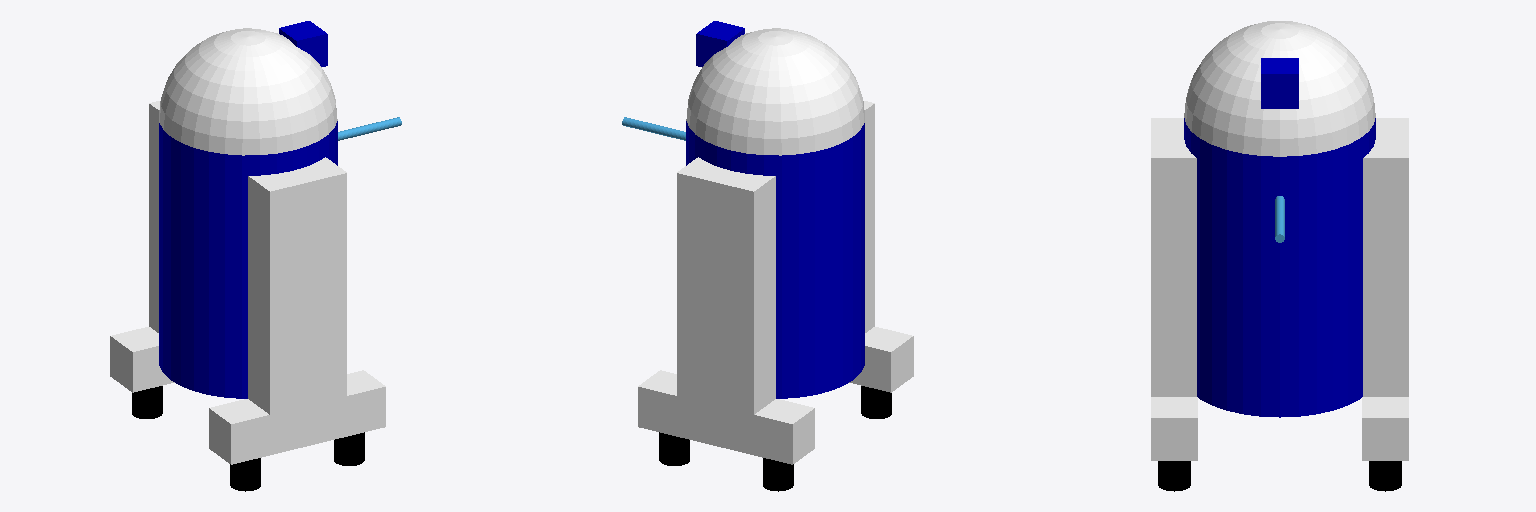
robot.urdf — macroed:
<?xml version="1.0" ?>
<!-- =================================================================================== -->
<!-- |    This document was autogenerated by xacro from macroed.urdf.xacro             | -->
<!-- |    EDITING THIS FILE BY HAND IS NOT RECOMMENDED                                 | -->
<!-- =================================================================================== -->
<robot name="macroed" xmlns:xacro="http://ros.org/wiki/xacro">
  <material name="blue">
    <color rgba="0 0 .8 1"/>
  </material>
  <material name="black">
    <color rgba="0 0 0 1"/>
  </material>
  <material name="white">
    <color rgba="1 1 1 1"/>
  </material>
  <link name="base_link">
    <visual>
      <geometry>
        <cylinder length="0.6" radius="0.2"/>
      </geometry>
      <material name="blue"/>
    </visual>
    <collision>
      <geometry>
        <cylinder length="0.6" radius="0.2"/>
      </geometry>
    </collision>
    <inertial>
      <mass value="10"/>
      <inertia ixx="1.0" ixy="0.0" ixz="0.0" iyy="1.0" iyz="0.0" izz="1.0"/>
    </inertial>
  </link>
  <link name="right_leg">
    <visual>
      <geometry>
        <box size="0.6 .1 .2"/>
      </geometry>
      <origin rpy="0 1.57075 0" xyz="0 0 -0.3"/>
      <material name="white"/>
    </visual>
    <collision>
      <geometry>
        <box size="0.6 .1 .2"/>
      </geometry>
      <origin rpy="0 1.57075 0" xyz="0 0 -0.3"/>
    </collision>
    <inertial>
      <mass value="10"/>
      <inertia ixx="1.0" ixy="0.0" ixz="0.0" iyy="1.0" iyz="0.0" izz="1.0"/>
    </inertial>
  </link>
  <joint name="base_to_right_leg" type="fixed">
    <parent link="base_link"/>
    <child link="right_leg"/>
    <origin xyz="0 -0.22 .25"/>
  </joint>
  <link name="right_base">
    <visual>
      <geometry>
        <box size="0.4 .1 .1"/>
      </geometry>
      <material name="white"/>
    </visual>
    <collision>
      <geometry>
        <box size="0.4 .1 .1"/>
      </geometry>
    </collision>
    <inertial>
      <mass value="10"/>
      <inertia ixx="1.0" ixy="0.0" ixz="0.0" iyy="1.0" iyz="0.0" izz="1.0"/>
    </inertial>
  </link>
  <joint name="right_base_joint" type="fixed">
    <parent link="right_leg"/>
    <child link="right_base"/>
    <origin xyz="0 0 -0.6"/>
  </joint>
  <link name="right_front_wheel">
    <visual>
      <origin rpy="1.57075 0 0" xyz="0 0 0"/>
      <geometry>
        <cylinder length="0.1" radius="0.035"/>
      </geometry>
      <material name="black"/>
      <origin rpy="0 0 0" xyz="0 0 0"/>
    </visual>
    <collision>
      <origin rpy="1.57075 0 0" xyz="0 0 0"/>
      <geometry>
        <cylinder length="0.1" radius="0.035"/>
      </geometry>
      <origin rpy="0 0 0" xyz="0 0 0"/>
    </collision>
    <inertial>
      <mass value="1"/>
      <inertia ixx="1.0" ixy="0.0" ixz="0.0" iyy="1.0" iyz="0.0" izz="1.0"/>
    </inertial>
  </link>
  <joint name="right_front_wheel_joint" type="continuous">
    <axis rpy="0 0 0" xyz="0 1 0"/>
    <parent link="right_base"/>
    <child link="right_front_wheel"/>
    <origin rpy="0 0 0" xyz="0.133333333333 0 -0.085"/>
  </joint>
  <link name="right_back_wheel">
    <visual>
      <origin rpy="1.57075 0 0" xyz="0 0 0"/>
      <geometry>
        <cylinder length="0.1" radius="0.035"/>
      </geometry>
      <material name="black"/>
      <origin rpy="0 0 0" xyz="0 0 0"/>
    </visual>
    <collision>
      <origin rpy="1.57075 0 0" xyz="0 0 0"/>
      <geometry>
        <cylinder length="0.1" radius="0.035"/>
      </geometry>
      <origin rpy="0 0 0" xyz="0 0 0"/>
    </collision>
    <inertial>
      <mass value="1"/>
      <inertia ixx="1.0" ixy="0.0" ixz="0.0" iyy="1.0" iyz="0.0" izz="1.0"/>
    </inertial>
  </link>
  <joint name="right_back_wheel_joint" type="continuous">
    <axis rpy="0 0 0" xyz="0 1 0"/>
    <parent link="right_base"/>
    <child link="right_back_wheel"/>
    <origin rpy="0 0 0" xyz="-0.133333333333 0 -0.085"/>
  </joint>
  <link name="left_leg">
    <visual>
      <geometry>
        <box size="0.6 .1 .2"/>
      </geometry>
      <origin rpy="0 1.57075 0" xyz="0 0 -0.3"/>
      <material name="white"/>
    </visual>
    <collision>
      <geometry>
        <box size="0.6 .1 .2"/>
      </geometry>
      <origin rpy="0 1.57075 0" xyz="0 0 -0.3"/>
    </collision>
    <inertial>
      <mass value="10"/>
      <inertia ixx="1.0" ixy="0.0" ixz="0.0" iyy="1.0" iyz="0.0" izz="1.0"/>
    </inertial>
  </link>
  <joint name="base_to_left_leg" type="fixed">
    <parent link="base_link"/>
    <child link="left_leg"/>
    <origin xyz="0 0.22 .25"/>
  </joint>
  <link name="left_base">
    <visual>
      <geometry>
        <box size="0.4 .1 .1"/>
      </geometry>
      <material name="white"/>
    </visual>
    <collision>
      <geometry>
        <box size="0.4 .1 .1"/>
      </geometry>
    </collision>
    <inertial>
      <mass value="10"/>
      <inertia ixx="1.0" ixy="0.0" ixz="0.0" iyy="1.0" iyz="0.0" izz="1.0"/>
    </inertial>
  </link>
  <joint name="left_base_joint" type="fixed">
    <parent link="left_leg"/>
    <child link="left_base"/>
    <origin xyz="0 0 -0.6"/>
  </joint>
  <link name="left_front_wheel">
    <visual>
      <origin rpy="1.57075 0 0" xyz="0 0 0"/>
      <geometry>
        <cylinder length="0.1" radius="0.035"/>
      </geometry>
      <material name="black"/>
      <origin rpy="0 0 0" xyz="0 0 0"/>
    </visual>
    <collision>
      <origin rpy="1.57075 0 0" xyz="0 0 0"/>
      <geometry>
        <cylinder length="0.1" radius="0.035"/>
      </geometry>
      <origin rpy="0 0 0" xyz="0 0 0"/>
    </collision>
    <inertial>
      <mass value="1"/>
      <inertia ixx="1.0" ixy="0.0" ixz="0.0" iyy="1.0" iyz="0.0" izz="1.0"/>
    </inertial>
  </link>
  <joint name="left_front_wheel_joint" type="continuous">
    <axis rpy="0 0 0" xyz="0 1 0"/>
    <parent link="left_base"/>
    <child link="left_front_wheel"/>
    <origin rpy="0 0 0" xyz="0.133333333333 0 -0.085"/>
  </joint>
  <link name="left_back_wheel">
    <visual>
      <origin rpy="1.57075 0 0" xyz="0 0 0"/>
      <geometry>
        <cylinder length="0.1" radius="0.035"/>
      </geometry>
      <material name="black"/>
      <origin rpy="0 0 0" xyz="0 0 0"/>
    </visual>
    <collision>
      <origin rpy="1.57075 0 0" xyz="0 0 0"/>
      <geometry>
        <cylinder length="0.1" radius="0.035"/>
      </geometry>
      <origin rpy="0 0 0" xyz="0 0 0"/>
    </collision>
    <inertial>
      <mass value="1"/>
      <inertia ixx="1.0" ixy="0.0" ixz="0.0" iyy="1.0" iyz="0.0" izz="1.0"/>
    </inertial>
  </link>
  <joint name="left_back_wheel_joint" type="continuous">
    <axis rpy="0 0 0" xyz="0 1 0"/>
    <parent link="left_base"/>
    <child link="left_back_wheel"/>
    <origin rpy="0 0 0" xyz="-0.133333333333 0 -0.085"/>
  </joint>
  <joint name="gripper_extension" type="prismatic">
    <parent link="base_link"/>
    <child link="gripper_pole"/>
    <limit effort="1000.0" lower="-0.38" upper="0" velocity="0.5"/>
    <origin rpy="0 0 0" xyz="0.19 0 .2"/>
  </joint>
  <link name="gripper_pole">
    <visual>
      <geometry>
        <cylinder length="0.2" radius=".01"/>
      </geometry>
      <origin rpy="0 1.57075 0 " xyz="0.1 0 0"/>
    </visual>
    <collision>
      <geometry>
        <cylinder length="0.2" radius=".01"/>
      </geometry>
      <origin rpy="0 1.57075 0 " xyz="0.1 0 0"/>
    </collision>
    <inertial>
      <mass value="0.05"/>
      <inertia ixx="1.0" ixy="0.0" ixz="0.0" iyy="1.0" iyz="0.0" izz="1.0"/>
    </inertial>
  </link>
  <joint name="left_gripper_joint" type="revolute">
    <axis xyz="0 0 1"/>
    <limit effort="1000.0" lower="0.0" upper="0.548" velocity="0.5"/>
    <origin rpy="0 0 0" xyz="0.2 0.01 0"/>
    <parent link="gripper_pole"/>
    <child link="left_gripper"/>
  </joint>
  <link name="left_gripper">
    <visual>
      <origin rpy="0.0 0 0" xyz="0 0 0"/>
      <geometry>
        <mesh filename="package://pr2_description/meshes/gripper_v0/l_finger.dae"/>
      </geometry>
    </visual>
    <collision>
      <geometry>
        <mesh filename="package://pr2_description/meshes/gripper_v0/l_finger.dae"/>
      </geometry>
      <origin rpy="0.0 0 0" xyz="0 0 0"/>
    </collision>
    <inertial>
      <mass value="0.05"/>
      <inertia ixx="1.0" ixy="0.0" ixz="0.0" iyy="1.0" iyz="0.0" izz="1.0"/>
    </inertial>
  </link>
  <joint name="left_tip_joint" type="fixed">
    <parent link="left_gripper"/>
    <child link="left_tip"/>
  </joint>
  <link name="left_tip">
    <visual>
      <origin rpy="0.0 0 0" xyz="0.09137 0.00495 0"/>
      <geometry>
        <mesh filename="package://pr2_description/meshes/gripper_v0/l_finger_tip.dae"/>
      </geometry>
    </visual>
    <collision>
      <geometry>
        <mesh filename="package://pr2_description/meshes/gripper_v0/l_finger_tip.dae"/>
      </geometry>
      <origin rpy="0.0 0 0" xyz="0.09137 0.00495 0"/>
    </collision>
    <inertial>
      <mass value="0.05"/>
      <inertia ixx="1.0" ixy="0.0" ixz="0.0" iyy="1.0" iyz="0.0" izz="1.0"/>
    </inertial>
  </link>
  <joint name="right_gripper_joint" type="revolute">
    <axis xyz="0 0 -1"/>
    <limit effort="1000.0" lower="0.0" upper="0.548" velocity="0.5"/>
    <origin rpy="0 0 0" xyz="0.2 -0.01 0"/>
    <parent link="gripper_pole"/>
    <child link="right_gripper"/>
  </joint>
  <link name="right_gripper">
    <visual>
      <origin rpy="-3.1415 0 0" xyz="0 0 0"/>
      <geometry>
        <mesh filename="package://pr2_description/meshes/gripper_v0/l_finger.dae"/>
      </geometry>
    </visual>
    <collision>
      <geometry>
        <mesh filename="package://pr2_description/meshes/gripper_v0/l_finger.dae"/>
      </geometry>
      <origin rpy="-3.1415 0 0" xyz="0 0 0"/>
    </collision>
    <inertial>
      <mass value="0.05"/>
      <inertia ixx="1.0" ixy="0.0" ixz="0.0" iyy="1.0" iyz="0.0" izz="1.0"/>
    </inertial>
  </link>
  <joint name="right_tip_joint" type="fixed">
    <parent link="right_gripper"/>
    <child link="right_tip"/>
  </joint>
  <link name="right_tip">
    <visual>
      <origin rpy="-3.1415 0 0" xyz="0.09137 0.00495 0"/>
      <geometry>
        <mesh filename="package://pr2_description/meshes/gripper_v0/l_finger_tip.dae"/>
      </geometry>
    </visual>
    <collision>
      <geometry>
        <mesh filename="package://pr2_description/meshes/gripper_v0/l_finger_tip.dae"/>
      </geometry>
      <origin rpy="-3.1415 0 0" xyz="0.09137 0.00495 0"/>
    </collision>
    <inertial>
      <mass value="0.05"/>
      <inertia ixx="1.0" ixy="0.0" ixz="0.0" iyy="1.0" iyz="0.0" izz="1.0"/>
    </inertial>
  </link>
  <link name="head">
    <visual>
      <geometry>
        <sphere radius="0.2"/>
      </geometry>
      <material name="white"/>
    </visual>
    <collision>
      <geometry>
        <sphere radius="0.2"/>
      </geometry>
    </collision>
    <inertial>
      <mass value="2"/>
      <inertia ixx="1.0" ixy="0.0" ixz="0.0" iyy="1.0" iyz="0.0" izz="1.0"/>
    </inertial>
  </link>
  <joint name="head_swivel" type="continuous">
    <parent link="base_link"/>
    <child link="head"/>
    <axis xyz="0 0 1"/>
    <origin xyz="0 0 0.3"/>
  </joint>
  <link name="box">
    <visual>
      <geometry>
        <box size=".08 .08 .08"/>
      </geometry>
      <material name="blue"/>
      <origin xyz="-0.04 0 0"/>
    </visual>
    <collision>
      <geometry>
        <box size=".08 .08 .08"/>
      </geometry>
    </collision>
    <inertial>
      <mass value="1"/>
      <inertia ixx="1.0" ixy="0.0" ixz="0.0" iyy="1.0" iyz="0.0" izz="1.0"/>
    </inertial>
  </link>
  <joint name="tobox" type="fixed">
    <parent link="head"/>
    <child link="box"/>
    <origin xyz="0.1814 0 0.1414"/>
  </joint>
</robot>

--- Render facts (derived) ---
3 views of the same robot in one strip: view 1: azimuth 30°, elevation 25°; view 2: azimuth 150°, elevation 25°; view 3: azimuth 270°, elevation 25° (orthographic).
Robot: macroed — 16 links, 15 joints (2 revolute, 5 continuous, 1 prismatic, 7 fixed); root link base_link; default pose: every joint at zero.
Links seen in each view (by area): view 1: right_leg, base_link, head, right_base, left_base, left_leg, box, right_front_wheel, left_back_wheel, right_back_wheel, gripper_pole; view 2: left_leg, base_link, head, left_base, right_base, right_leg, box, left_front_wheel, right_back_wheel, left_back_wheel, gripper_pole; view 3: base_link, head, right_leg, left_leg, right_base, left_base, box, right_front_wheel, left_front_wheel.
Link boxes in pixels (x1,y1,x2,y2): right_leg: (248,157,346,433); base_link: (159,121,337,398); head: (159,28,337,155); right_base: (209,370,385,464); left_base: (110,327,174,392); left_leg: (149,101,159,332); box: (279,21,327,66); right_front_wheel: (334,432,364,465); left_back_wheel: (132,386,162,418); right_back_wheel: (230,458,260,491); gripper_pole: (338,117,401,140); left_leg: (677,157,775,433); base_link: (686,121,864,398); head: (686,28,864,155); left_base: (638,370,814,464); right_base: (849,327,913,392); right_leg: (864,101,874,332); box: (696,21,744,66); left_front_wheel: (659,432,689,465); right_back_wheel: (861,386,891,418); left_back_wheel: (763,458,793,491); gripper_pole: (622,117,685,140); base_link: (1184,118,1375,417); head: (1184,21,1375,156); right_leg: (1151,118,1196,396); left_leg: (1363,118,1408,396); right_base: (1151,397,1197,460); left_base: (1362,397,1408,460); box: (1261,58,1298,108); right_front_wheel: (1158,461,1190,491); left_front_wheel: (1369,461,1401,491).
Size in the robot's own frame: 0.59 by 0.54 by 0.985 metres.
Meshes: 2 distinct files referenced, 0 mesh visuals loaded (none loaded); not drawn: 4 (reference not matched to a file when rendering).